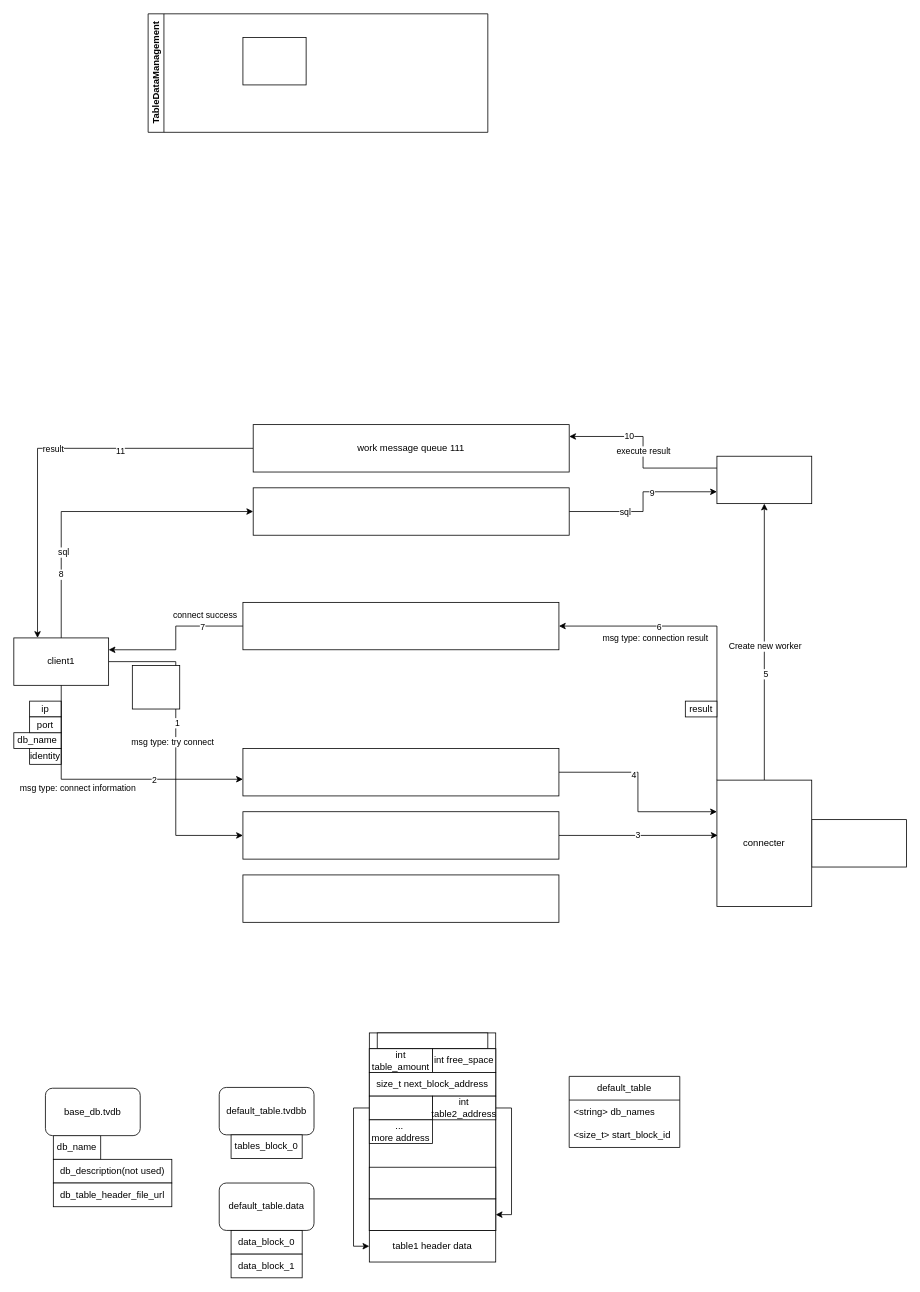
This 920x1292 diagram has some shape labels left out. The shapes that lost their labels are listed below. From the top down, each one's centre as x and y in pixels, then its label:
At [764,479]: "worker1".
At [410,511]: "work message queue 110".
At [400,626]: "exclusive connect message queue 111".
At [156,687]: "exclusive queue id：110".
At [400,772]: "exclusive connect message queue 110".
At [400,835]: "public connect message queue 10238".
At [859,843]: "server".
At [400,898]: "exclusive connect message queue 120".
At [432,1040]: "table_block".
At [401,1107]: "int table1_address".
At [432,1182]: "more header data ...".
At [432,1214]: "table2 header data".
